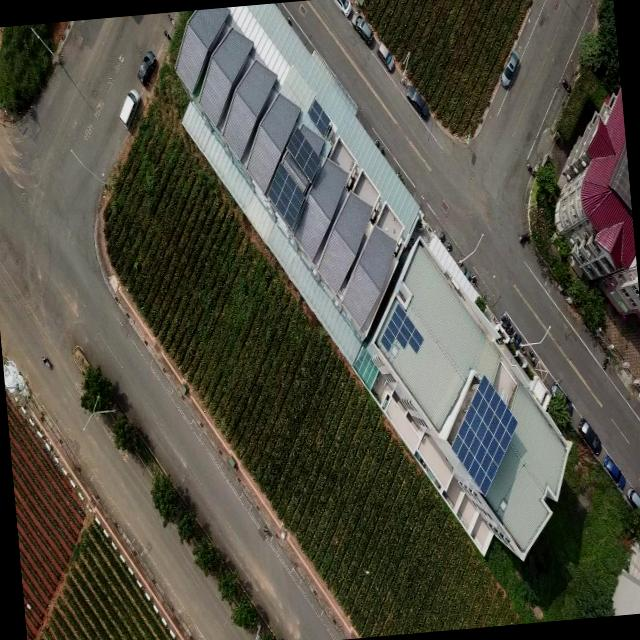bike: (40, 354, 53, 372), (513, 332, 522, 348), (504, 318, 513, 334), (498, 312, 508, 326), (528, 347, 536, 364), (510, 329, 518, 344)
car: (577, 416, 603, 458), (404, 81, 430, 122), (116, 89, 142, 128), (550, 379, 574, 417), (604, 452, 626, 491), (135, 47, 157, 84), (499, 51, 521, 88), (352, 10, 374, 45), (376, 43, 395, 72), (625, 485, 640, 509), (333, 0, 351, 16)
